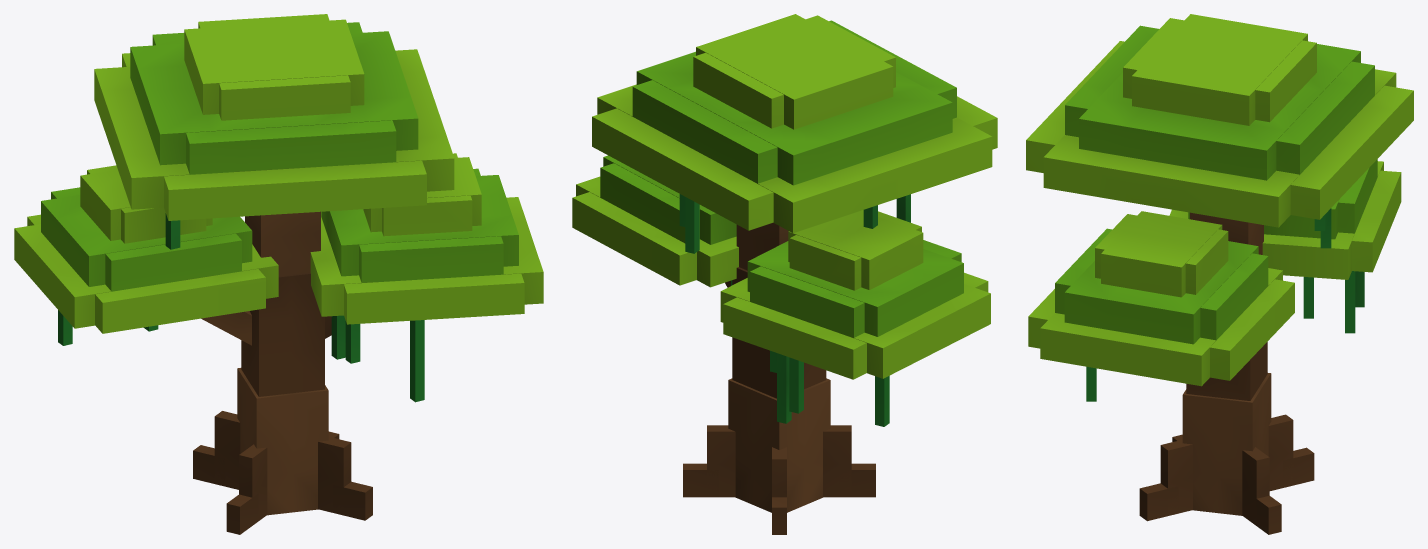
The model's file is JungleTree.fbx.
3 renders of one model, left to right at view 1: azimuth 30°, elevation 25°; view 2: azimuth 150°, elevation 25°; view 3: azimuth 270°, elevation 25°, orthographic. The views are drawn at different scales.
Visible parts, largest first — view 1: JungleTree; view 2: JungleTree; view 3: JungleTree.
Part boxes in pixels (box(x1,y1,x2,y2)): JungleTree: box(14, 14, 543, 534); JungleTree: box(572, 14, 997, 534); JungleTree: box(1026, 14, 1413, 534).
Bounding box in the file's own units: 16.19 × 16.02 × 12.87.
